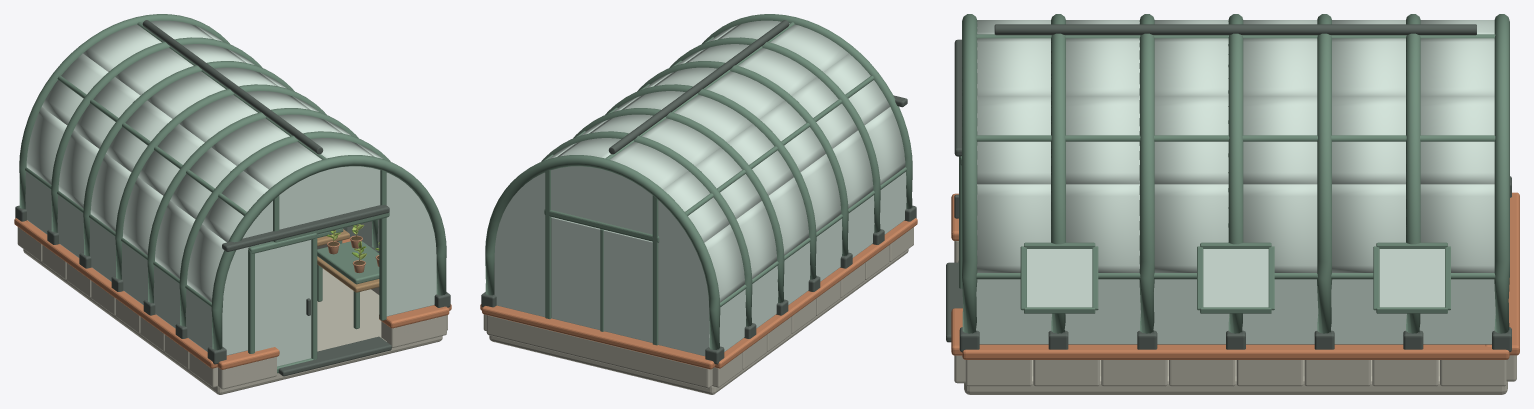
Rendered from arched_nursery_greenhouse.fbx.
3 renders of one model, left to right at view 1: azimuth 30°, elevation 25°; view 2: azimuth 150°, elevation 25°; view 3: azimuth 270°, elevation 25°, orthographic. The views are drawn at different scales.
Visible parts, largest first — view 1: Sliding_Entry_Glazing, Endwall_Side_Glazing_-1_1, Greenhouse_Interior_Floor, Vault_Structural_Rib_0, Endwall_Transom_Glazing_-1, Endwall_Side_Glazing_-1_-1, Vault_Structural_Rib_2, Side_Terracotta_Coping_-1, Vault_Structural_Rib_6, Vault_Structural_Rib_5, Vault_Structural_Rib_4, Vault_Structural_Rib_1 (+56 smaller); view 2: Rear_Central_Glazing, Endwall_Side_Glazing_1_1, Endwall_Side_Glazing_1_-1, Vault_Structural_Rib_6, Endwall_Transom_Glazing_1, Rear_Foundation_Course, Rear_Terracotta_Coping, Side_Terracotta_Coping_-1, Vault_Structural_Rib_0, Vault_Structural_Rib_1, Vault_Structural_Rib_3, Vault_Structural_Rib_5 (+49 smaller); view 3: Side_Terracotta_Coping_1, Roof_Glazing_Bay_2_Strip_1, Roof_Glazing_Bay_3_Strip_1, Roof_Glazing_Bay_5_Strip_1, Roof_Glazing_Bay_0_Strip_1, Roof_Glazing_Bay_1_Strip_1, Roof_Glazing_Bay_4_Strip_1, Roof_Glazing_Bay_5_Strip_0, Roof_Glazing_Bay_3_Strip_0, Roof_Glazing_Bay_2_Strip_0, Roof_Glazing_Bay_0_Strip_0, Ridge_Vent_Actuator_Housing (+45 smaller).
Boxes of the visible parts, x1,y1,x2,y2 form: Sliding_Entry_Glazing: [255, 240, 311, 366]; Endwall_Side_Glazing_-1_1: [386, 172, 436, 316]; Greenhouse_Interior_Floor: [23, 249, 442, 394]; Vault_Structural_Rib_0: [211, 155, 446, 349]; Endwall_Transom_Glazing_-1: [279, 166, 380, 229]; Endwall_Side_Glazing_-1_-1: [222, 201, 272, 355]; Vault_Structural_Rib_2: [147, 108, 378, 303]; Side_Terracotta_Coping_-1: [14, 218, 231, 368]; Vault_Structural_Rib_6: [19, 14, 230, 209]; Vault_Structural_Rib_5: [51, 37, 262, 232]; Vault_Structural_Rib_4: [83, 61, 294, 256]; Vault_Structural_Rib_1: [179, 131, 390, 326]; Rear_Central_Glazing: [551, 217, 652, 342]; Endwall_Side_Glazing_1_1: [494, 172, 545, 317]; Endwall_Side_Glazing_1_-1: [658, 200, 709, 356]; Vault_Structural_Rib_6: [485, 155, 720, 349]; Endwall_Transom_Glazing_1: [551, 166, 652, 234]; Rear_Foundation_Course: [486, 315, 712, 388]; Rear_Terracotta_Coping: [482, 305, 715, 369]; Side_Terracotta_Coping_-1: [714, 218, 917, 368]; Vault_Structural_Rib_0: [701, 14, 912, 209]; Vault_Structural_Rib_1: [669, 37, 880, 232]; Vault_Structural_Rib_3: [605, 84, 816, 279]; Vault_Structural_Rib_5: [541, 131, 752, 326]; Side_Terracotta_Coping_1: [962, 344, 1509, 359]; Roof_Glazing_Bay_2_Strip_1: [1154, 96, 1228, 184]; Roof_Glazing_Bay_3_Strip_1: [1243, 96, 1317, 184]; Roof_Glazing_Bay_5_Strip_1: [1420, 96, 1494, 184]; Roof_Glazing_Bay_0_Strip_1: [977, 96, 1050, 184]; Roof_Glazing_Bay_1_Strip_1: [1066, 96, 1139, 184]; Roof_Glazing_Bay_4_Strip_1: [1332, 96, 1405, 184]; Roof_Glazing_Bay_5_Strip_0: [1420, 184, 1494, 272]; Roof_Glazing_Bay_3_Strip_0: [1243, 184, 1317, 272]; Roof_Glazing_Bay_2_Strip_0: [1154, 184, 1228, 272]; Roof_Glazing_Bay_0_Strip_0: [977, 184, 1050, 272]; Ridge_Vent_Actuator_Housing: [994, 24, 1476, 35].
Bounding box in the file's own units: 494 × 393 × 690.
